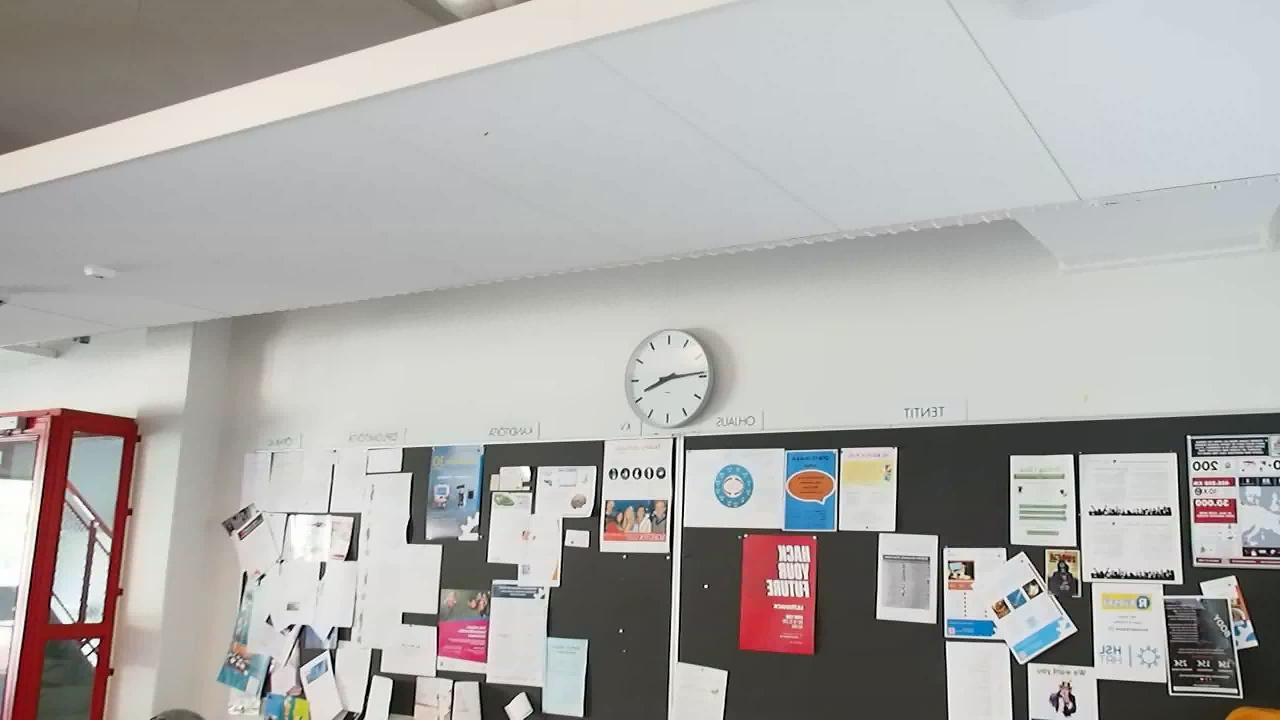clock: (620, 331, 718, 434)
